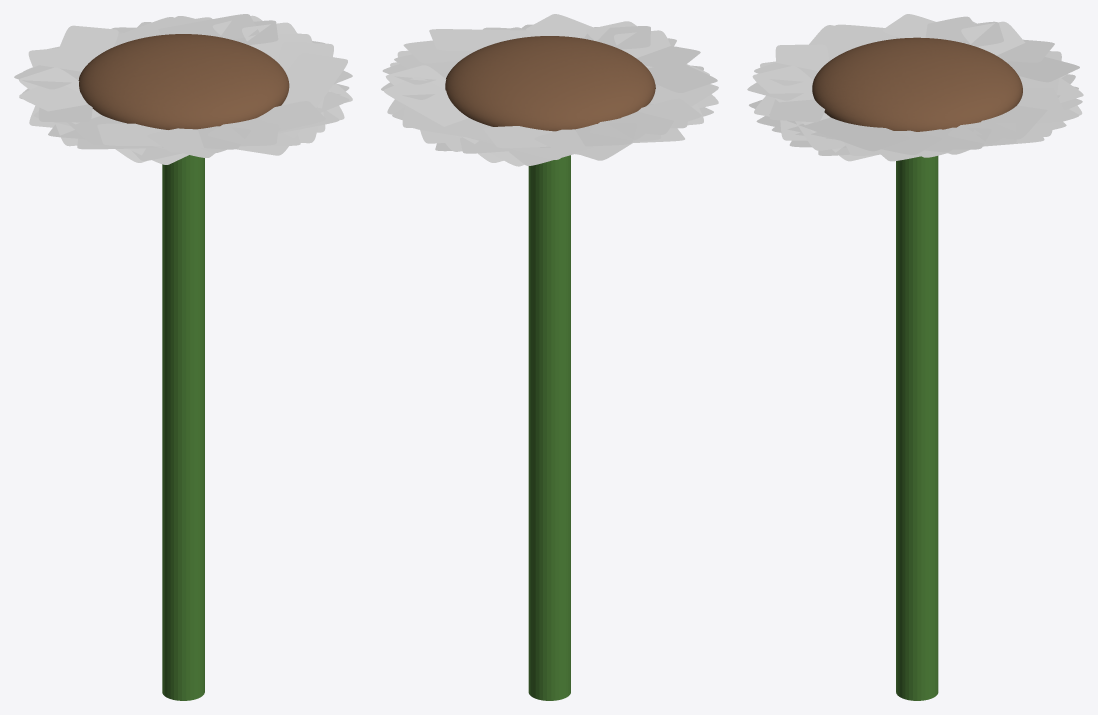
3 renders of one model, left to right at view 1: azimuth 30°, elevation 25°; view 2: azimuth 150°, elevation 25°; view 3: azimuth 270°, elevation 25°, orthographic.
Visible parts, largest first — view 1: object 31, object 1, Plane.025, Plane.011, Plane.021, Plane.016, Plane.020, Plane.013, Plane.006, Plane.022, Plane.026, Plane.024 (+10 smaller); view 2: object 31, object 1, Plane.006, Plane.025, Plane.011, Plane.012, Plane.008, Plane.020, Plane.021, Plane.014, Plane.022, Plane.009 (+10 smaller); view 3: object 31, object 1, Plane.025, Plane.024, Plane.022, Plane.020, Plane.006, Plane.026, Plane.011, Plane.008, Plane.009, Plane.021 (+10 smaller).
Part boxes in pixels (bbox=[...]): object 31: bbox=[162, 155, 204, 700]; object 1: bbox=[78, 34, 289, 129]; Plane.025: bbox=[236, 53, 347, 155]; Plane.011: bbox=[29, 25, 118, 127]; Plane.021: bbox=[132, 101, 325, 160]; Plane.016: bbox=[19, 86, 188, 164]; Plane.020: bbox=[97, 123, 300, 145]; Plane.013: bbox=[28, 47, 86, 146]; Plane.006: bbox=[158, 14, 259, 39]; Plane.022: bbox=[147, 110, 339, 152]; Plane.026: bbox=[278, 42, 333, 143]; Plane.024: bbox=[208, 84, 349, 145]; object 31: bbox=[528, 155, 570, 700]; object 1: bbox=[445, 36, 655, 131]; Plane.006: bbox=[383, 77, 524, 166]; Plane.025: bbox=[429, 29, 537, 51]; Plane.011: bbox=[483, 126, 684, 148]; Plane.012: bbox=[509, 98, 701, 165]; Plane.008: bbox=[413, 115, 609, 156]; Plane.020: bbox=[594, 27, 717, 92]; Plane.021: bbox=[526, 14, 709, 75]; Plane.014: bbox=[581, 84, 718, 160]; Plane.022: bbox=[521, 24, 700, 69]; Plane.009: bbox=[435, 123, 637, 151]; object 31: bbox=[896, 156, 938, 700]; object 1: bbox=[812, 37, 1022, 131]; Plane.025: bbox=[749, 99, 909, 151]; Plane.024: bbox=[752, 66, 876, 161]; Plane.022: bbox=[775, 44, 828, 140]; Plane.020: bbox=[754, 25, 871, 116]; Plane.006: bbox=[973, 74, 1075, 139]; Plane.026: bbox=[756, 116, 942, 154]; Plane.011: bbox=[1006, 57, 1079, 82]; Plane.008: bbox=[1017, 87, 1066, 123]; Plane.009: bbox=[961, 21, 1082, 115]; Plane.021: bbox=[769, 99, 824, 122].
Size of the model in its own units: 0.6388 by 1.31 by 0.6337.
